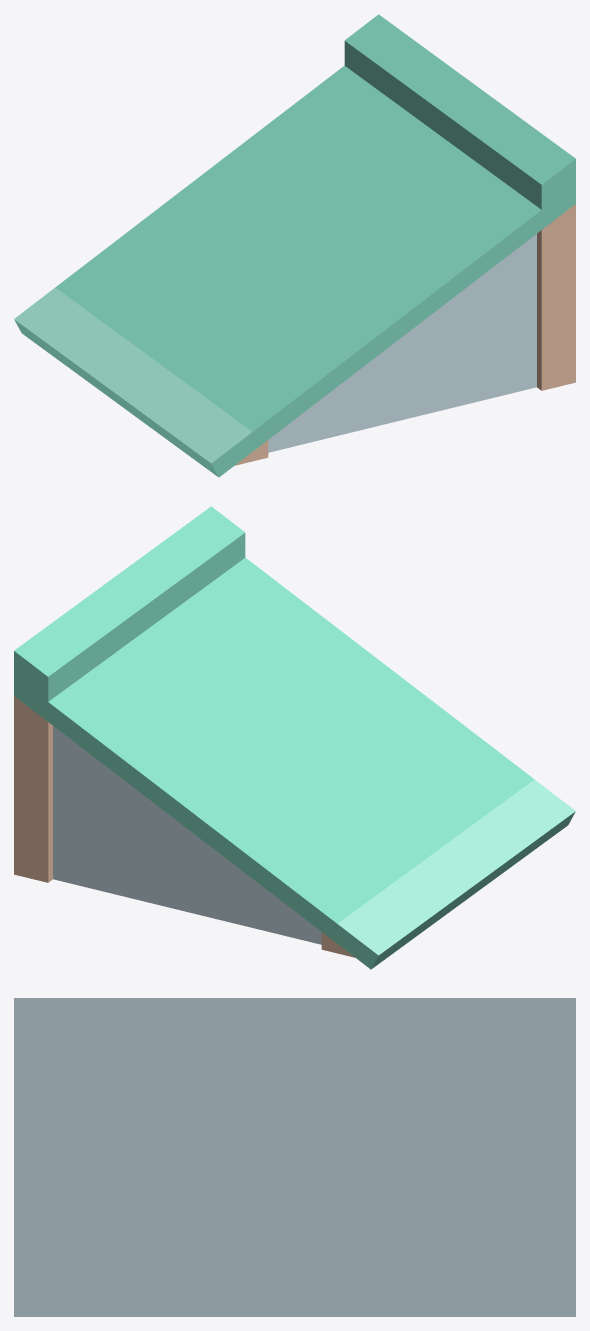
The picture shows the model from 3 angles, top to bottom: view 1: azimuth 30°, elevation 25°; view 2: azimuth 150°, elevation 25°; view 3: azimuth 270°, elevation 25°; orthographic projection. The views are drawn at different scales.
Visible parts, largest first — view 1: roof; view 2: roof; view 3: roof.
Boxes of the visible parts, x1,y1,x2,y2 form: roof: (14, 14, 575, 477); roof: (14, 506, 575, 969); roof: (14, 998, 575, 1316).
Size of the model in its own units: 1.07 by 0.6483 by 1.
